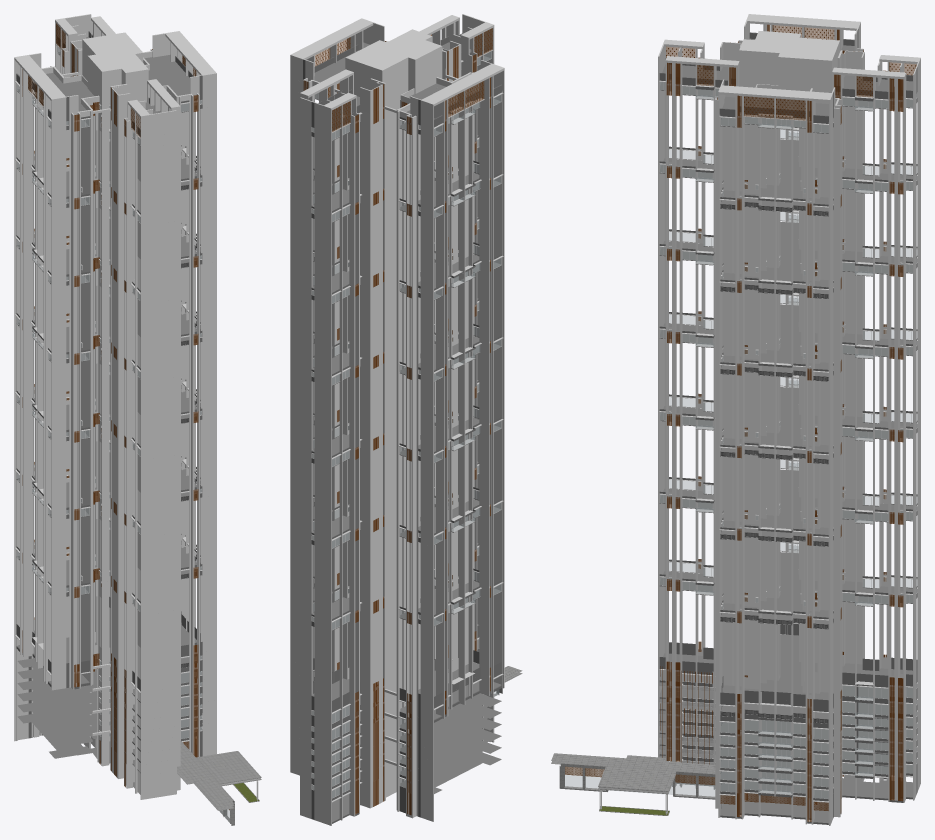
The model's file is 01_SM_T1_Skeleton.glb.
The picture shows the model from 3 angles, left to right: view 1: azimuth 30°, elevation 25°; view 2: azimuth 150°, elevation 25°; view 3: azimuth 270°, elevation 25°; orthographic projection. The views are drawn at different scales.
Visible parts, largest first — view 1: SM_Tower_01, SM_Tower_01_RefugeeFloor; view 2: SM_Tower_01, SM_Tower_01_RefugeeFloor; view 3: SM_Tower_01, SM_Tower_01_RefugeeFloor.
Part boxes in pixels (<box>): SM_Tower_01: <box>14,14,261,825</box>; SM_Tower_01_RefugeeFloor: <box>14,117,202,612</box>; SM_Tower_01: <box>290,14,522,825</box>; SM_Tower_01_RefugeeFloor: <box>311,135,503,630</box>; SM_Tower_01: <box>551,14,920,825</box>; SM_Tower_01_RefugeeFloor: <box>659,127,918,629</box>.
Bounding box in the file's own units: 2.38 × 9.54 × 4.33.
Materials: 8 (2 with a texture image).
